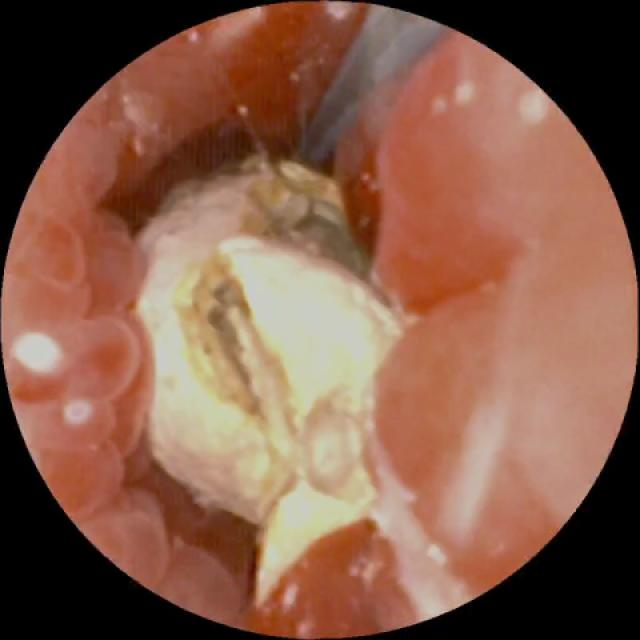stone: (133, 165, 397, 599)
